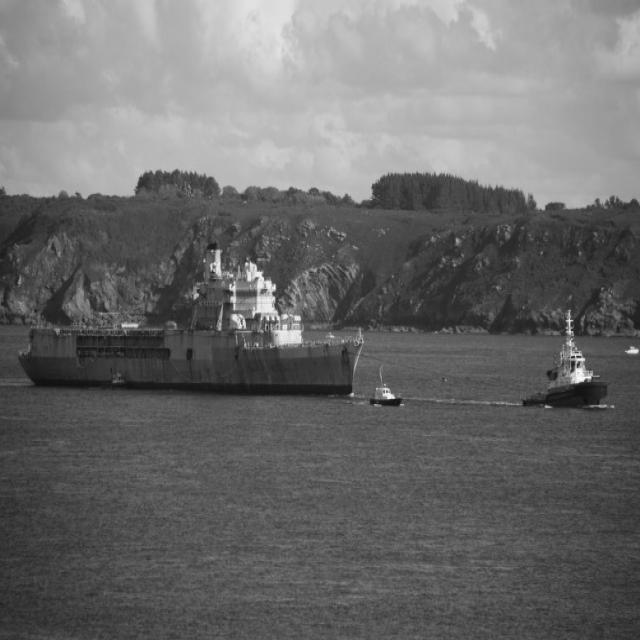Portanaves: (14, 231, 371, 393)
